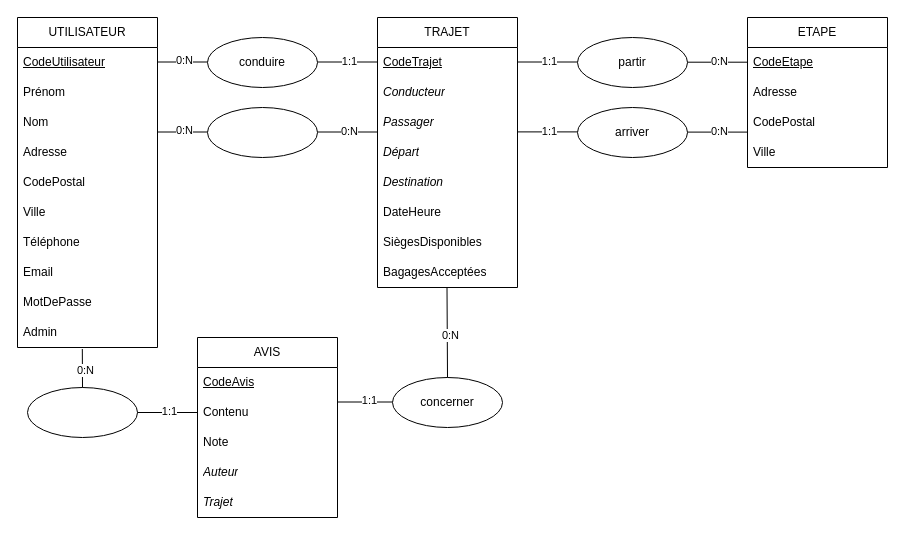
Image size: 905x535. Some labels were removed from this diagram. Here are the shapes that lost their labels. From the top down, the box of each, then its label:
(206, 106, 318, 158): être passager
(26, 386, 138, 438): écrire
